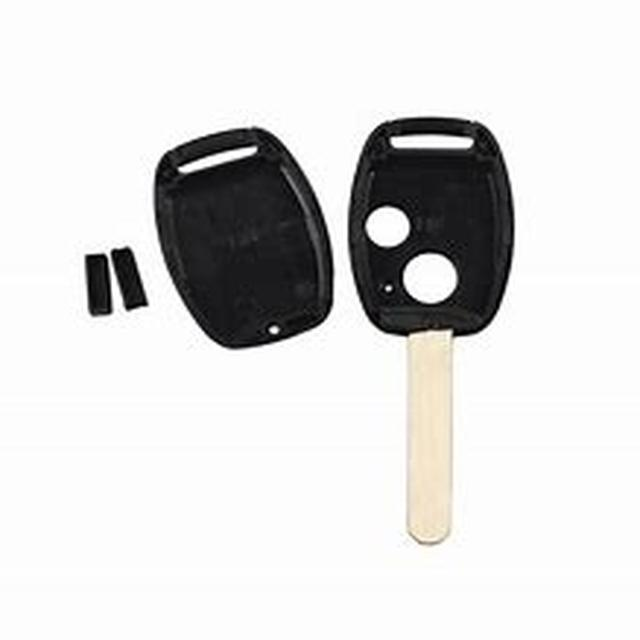key: (338, 78, 520, 580), (117, 78, 337, 423)
